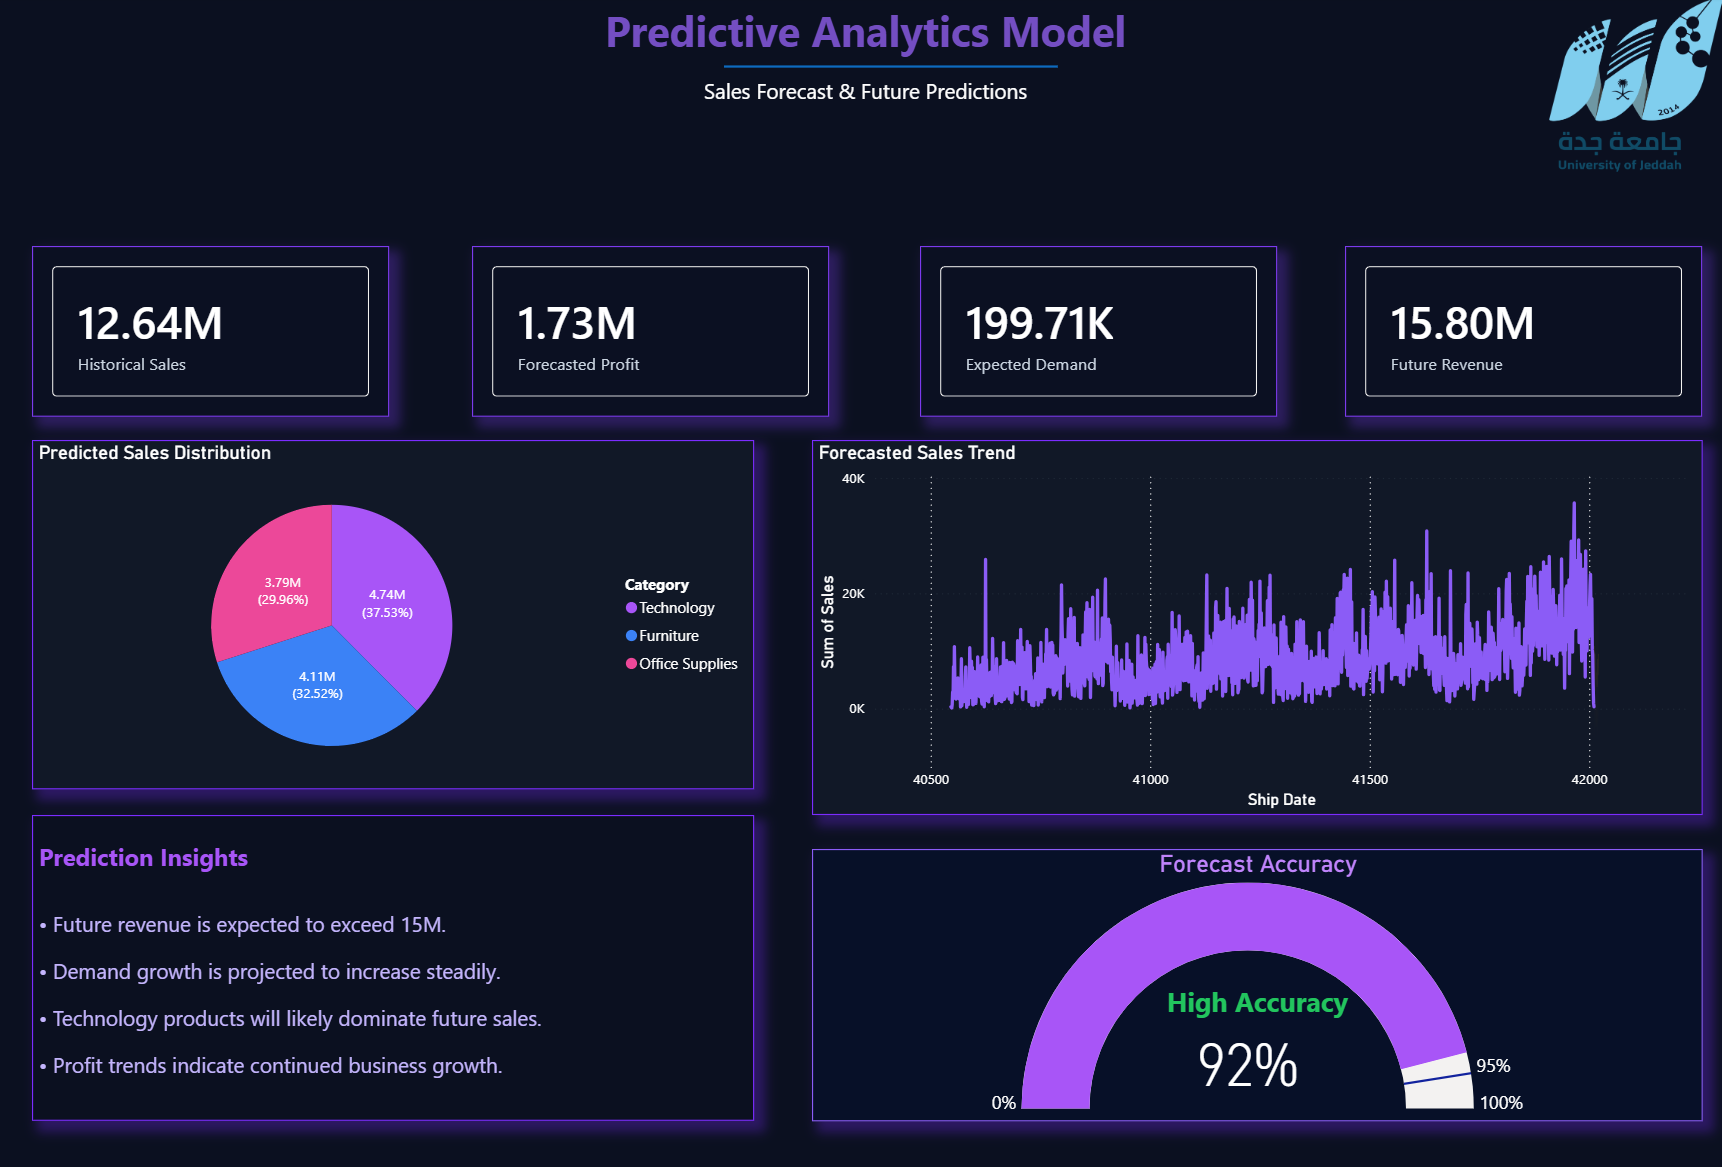

Layout of this report page (visuals, bound fields, positions):
{"tool":"powerbi","page":{"name":"Predictive Analytics","canvas":[1550,1050],"ordinal":1},"visuals":[{"type":"textbox","box":[9.3,0,1540.2,141.5],"z":0},{"type":"cardVisual","fields":{"Data":["Sum(Orders.Sales)"]},"box":[32.5,222.7,320.1,153.1],"z":1000},{"type":"cardVisual","fields":{"Data":["Orders.Forecasted Profit"]},"box":[426.8,222.7,320.1,153.1],"z":2000},{"type":"cardVisual","fields":{"Data":["Orders.Expected Demand"]},"box":[828.1,222.7,320.1,153.1],"z":3000},{"type":"cardVisual","fields":{"Data":["Orders.Future Revenue"]},"box":[1208.5,222.7,320.1,153.1],"z":4000},{"type":"shape","box":[651.8,48.7,299.2,27.8],"z":5000},{"type":"lineChart","title":"Forecasted Sales Trend","fields":{"Category":["Orders.Ship Date"],"Y":["Sum(Orders.Sales)"]},"box":[730.7,396.7,798,336.3],"z":6000},{"type":"textbox","box":[32.5,733,647.2,273.7],"z":7000},{"type":"pieChart","title":"Predicted Sales Distribution","fields":{"Category":["Orders.Category"],"Y":["Sum(Orders.Sales)"]},"box":[32.5,396.7,647.2,313.2],"z":8000},{"type":"gauge","title":"Forecast Accuracy","fields":{"Y":["Orders.Forecast Accuracy %"]},"box":[730.7,763.2,798,243.6],"z":9000},{"type":"textbox","box":[730.7,860.6,798,146.1],"z":10000},{"type":"image","box":[1389.5,0,160.1,160.1],"z":11000}]}

Visuals, with their boxes in screenshot pixels (x1, y1, x2, y2), scaled from the page's 1550x1050 canvas onto the 1722x1167 screenshot:
textbox: 10:0:1721:157
cardVisual - Sum(Orders.Sales): 36:248:392:418
cardVisual - Orders.Forecasted Profit: 474:248:830:418
cardVisual - Orders.Expected Demand: 920:248:1276:418
cardVisual - Orders.Future Revenue: 1343:248:1698:418
shape: 724:54:1057:85
"Forecasted Sales Trend" lineChart: 812:441:1698:815
textbox: 36:815:755:1119
"Predicted Sales Distribution" pieChart: 36:441:755:789
"Forecast Accuracy" gauge: 812:848:1698:1119
textbox: 812:956:1698:1119
image: 1544:0:1721:178
